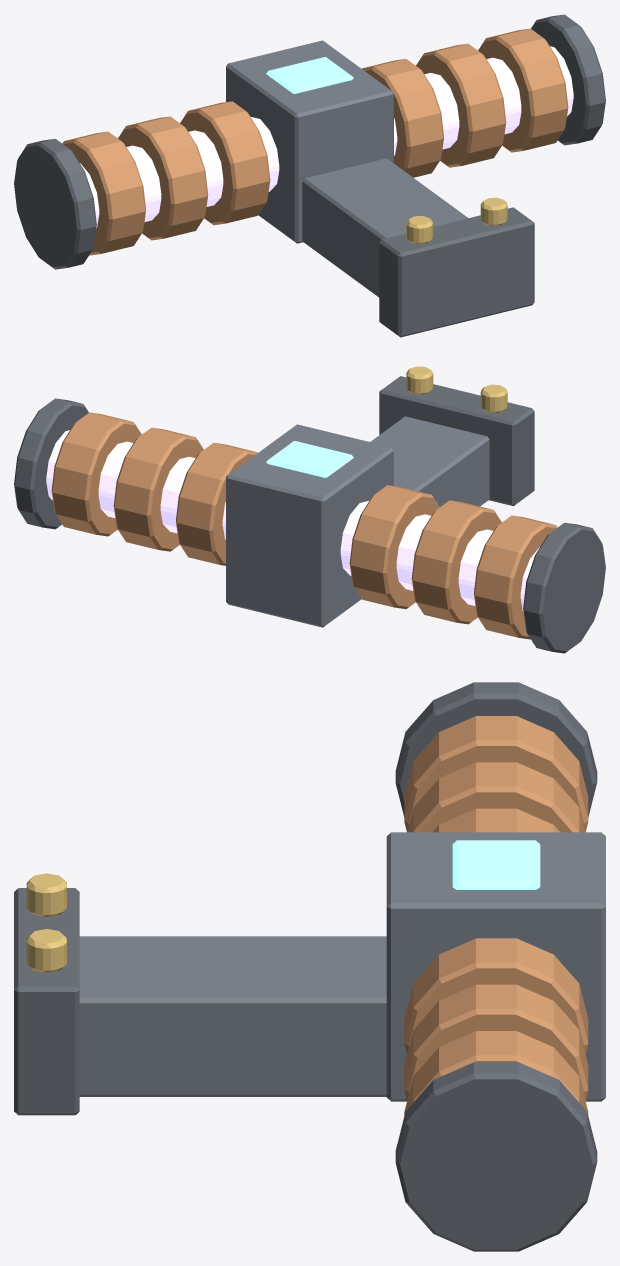
File: plasma_coil.glb
The picture shows the model from 3 angles, top to bottom: view 1: azimuth 30°, elevation 25°; view 2: azimuth 150°, elevation 25°; view 3: azimuth 270°, elevation 25°; orthographic projection. The views are drawn at different scales.
Parts seen in each view (by area): view 1: plasma_coil; view 2: plasma_coil; view 3: plasma_coil.
Part boxes in pixels (box(x1,y1,x2,y2)): plasma_coil: box(14, 14, 605, 337); plasma_coil: box(14, 366, 605, 653); plasma_coil: box(14, 682, 605, 1251).
Size of the model in its own units: 0.426 by 0.103 by 0.27.
